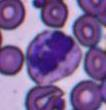N: (26, 30, 82, 81)
